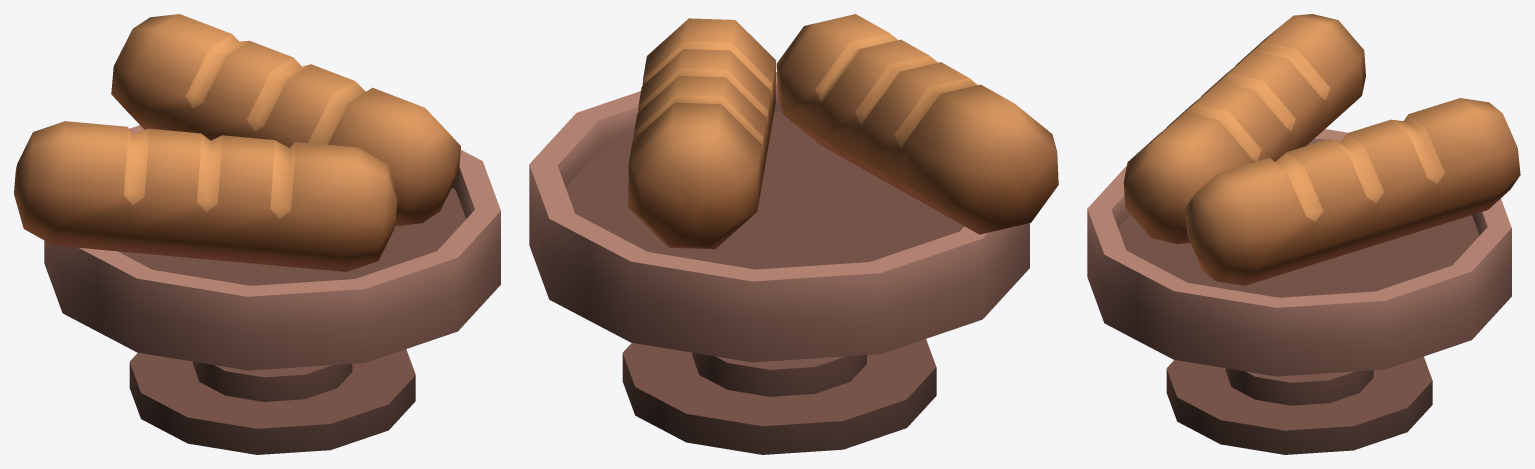
Rendered from Baguette.fbx.
The picture shows the model from 3 angles, left to right: view 1: azimuth 30°, elevation 25°; view 2: azimuth 150°, elevation 25°; view 3: azimuth 270°, elevation 25°; orthographic projection. The views are drawn at different scales.
Parts seen in each view (by area): view 1: Cylinder.076, Cube.063, Cube.061; view 2: Cylinder.076, Cube.063, Cube.061; view 3: Cylinder.076, Cube.061, Cube.063.
Part boxes in pixels (x1,y1,x2,y2): Cylinder.076: (44, 125, 500, 454); Cube.063: (14, 121, 397, 271); Cube.061: (111, 14, 460, 226); Cylinder.076: (529, 72, 1029, 454); Cube.063: (776, 14, 1058, 234); Cube.061: (628, 18, 776, 249); Cylinder.076: (1087, 129, 1511, 454); Cube.061: (1185, 98, 1520, 285); Cube.063: (1123, 14, 1365, 243).
Bounding box in the file's own units: 20.23 × 13.35 × 18.22.
